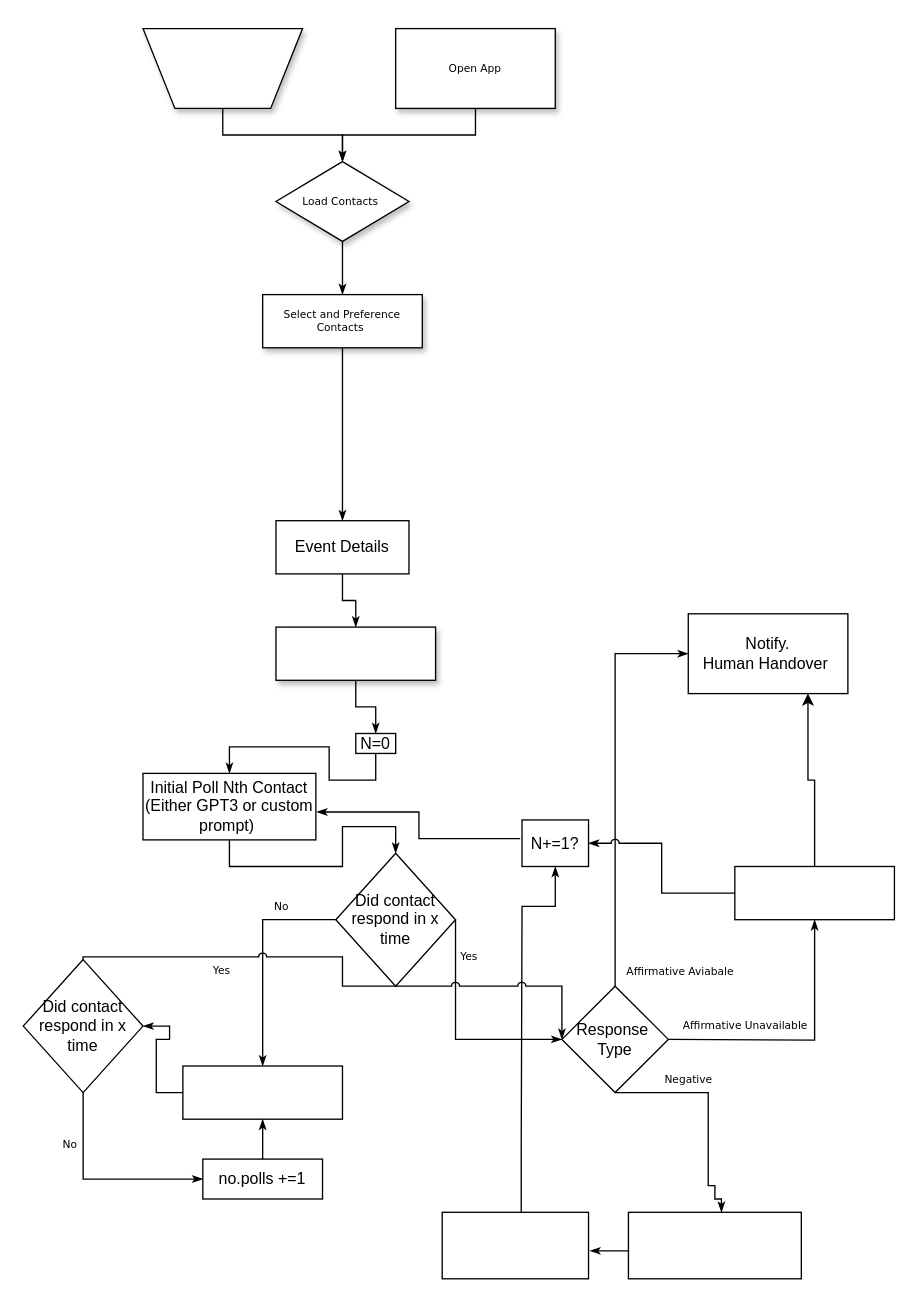
This 918x1302 diagram has some shape labels left out. Here are the shapes that lost their labels. From the top down, the centre of each, then its label:
point 223,70: Idle State
point 356,655: Activate Interface and create Task Instance
point 813,892: Ask for alternate suggestion of time/event
point 262,1092: Poll until no.polls = y
point 515,1245: Remove Contact from Task
point 714,1245: "Thanks Anyways, Maybe Next time"
